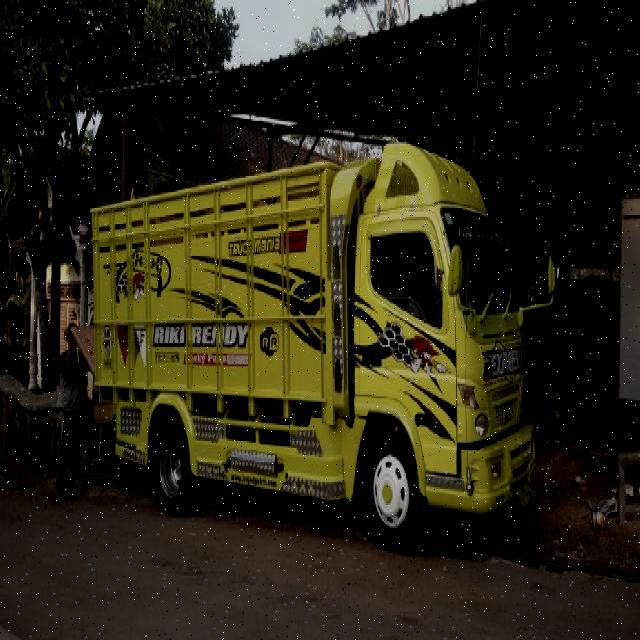truck: (91, 135, 560, 537)
